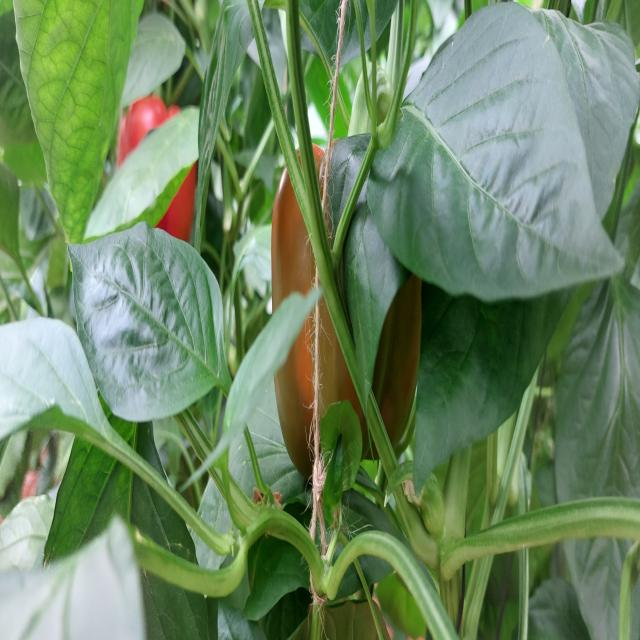BrownishRed--Can-be-Harvested: (266, 143, 427, 465)
